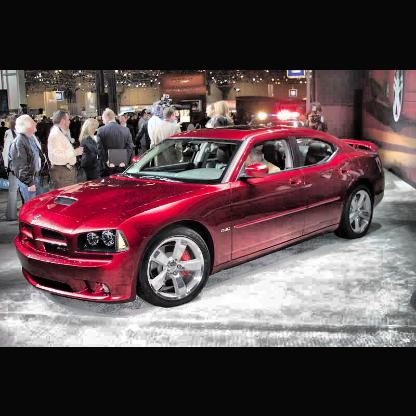Dodge Charger SRT-8 2009: (17, 128, 387, 307)
